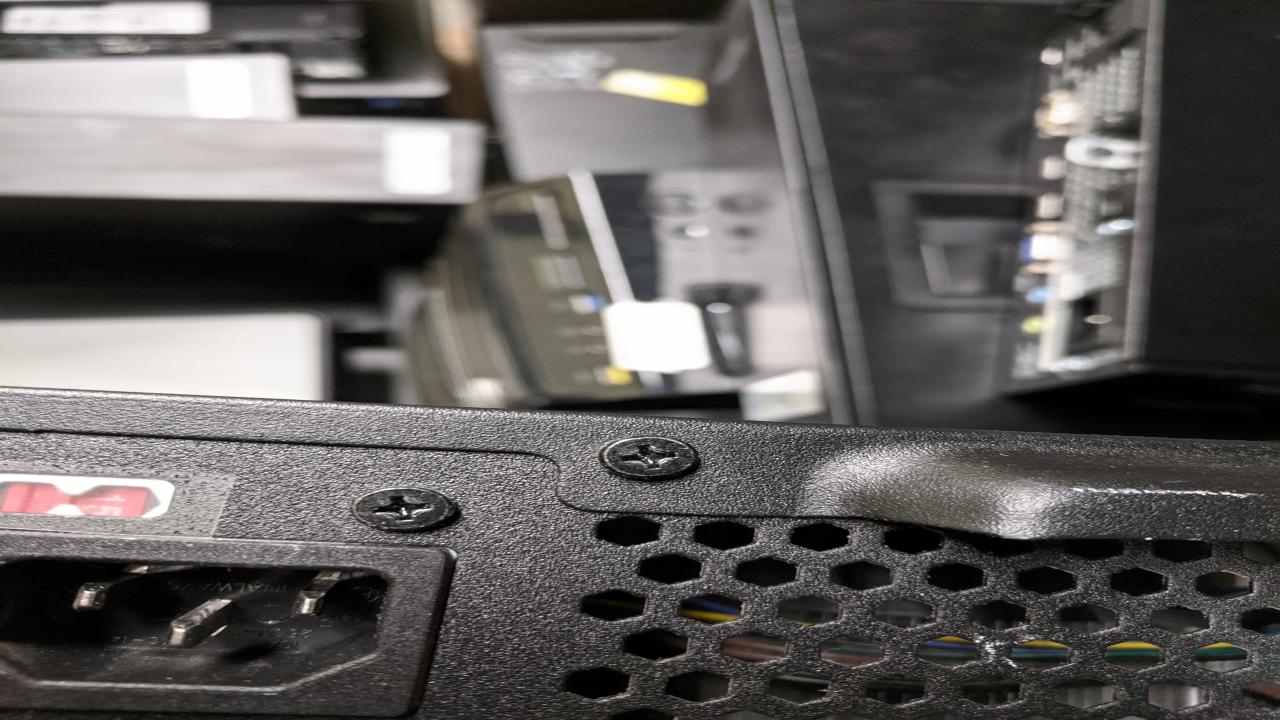CRS: (597, 432, 704, 480), (350, 487, 456, 532)
